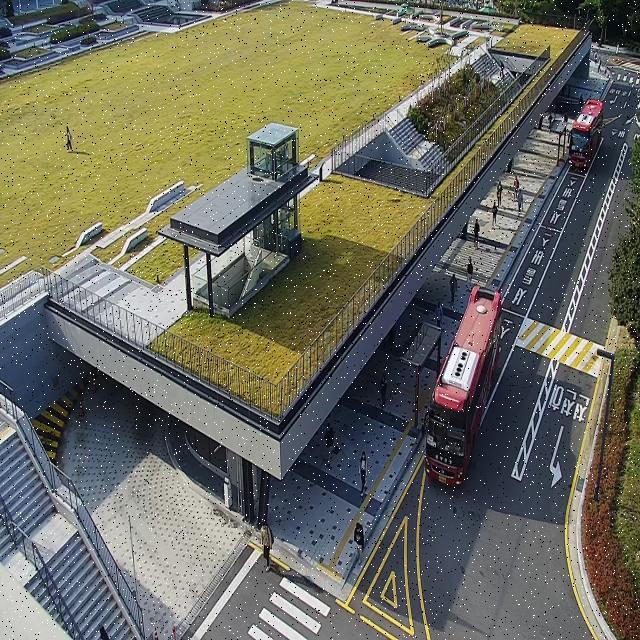queue: (413, 324, 441, 432)
